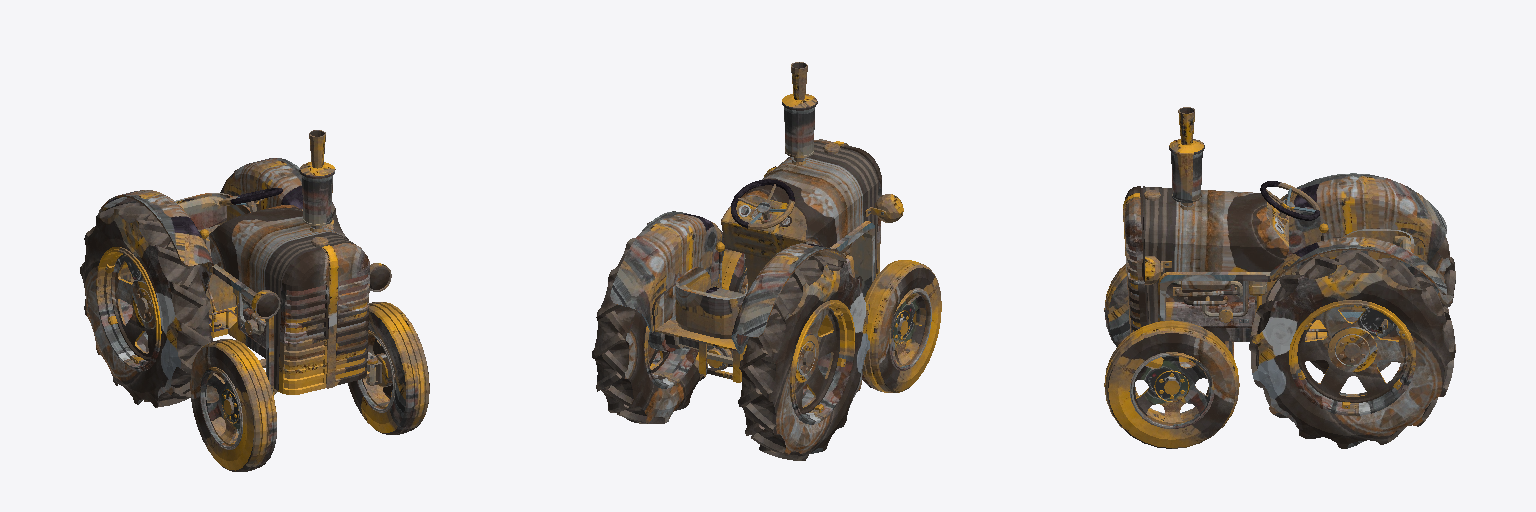
3 views of the same model, side by side, from view 1: azimuth 30°, elevation 25°; view 2: azimuth 150°, elevation 25°; view 3: azimuth 270°, elevation 25° (orthographic).
Parts seen in each view (by area): view 1: Hull01_low; view 2: Hull01_low; view 3: Hull01_low.
Part boxes in pixels (left/top/right/bottom): Hull01_low: left=80, top=130, right=429, bottom=471; Hull01_low: left=592, top=62, right=941, bottom=460; Hull01_low: left=1104, top=107, right=1455, bottom=448.
Bounding box in the file's own units: 1.59 × 2.5 × 2.6.
Materials: 1 (1 with a texture image).